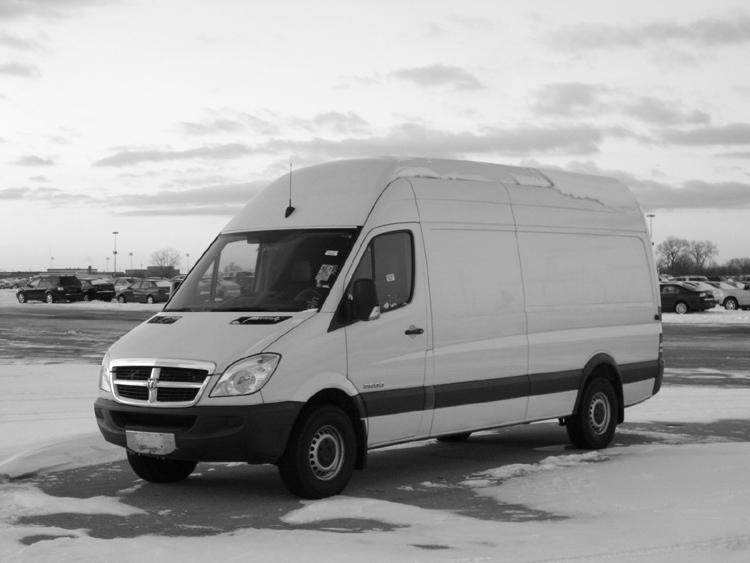car: (92, 150, 668, 492)
